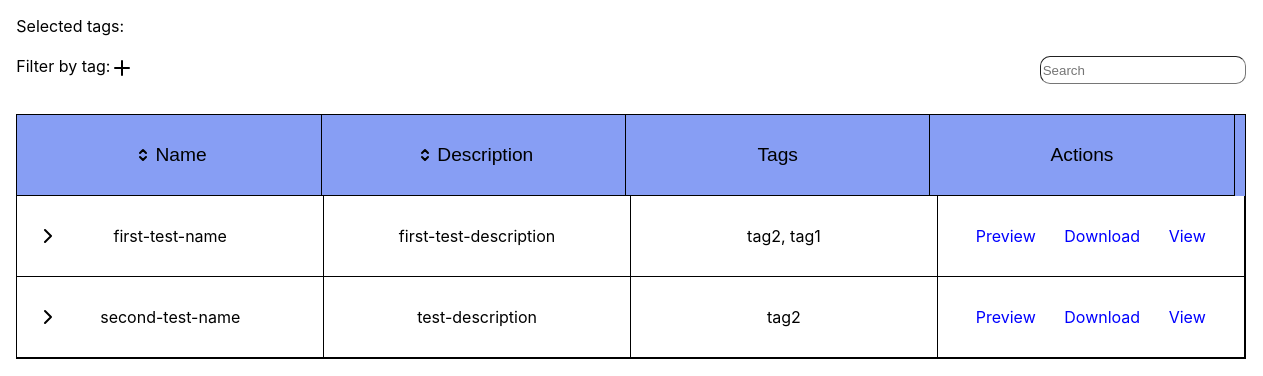
Test: filtering by tags › when models dont have tags that filtered by, all models should be displayed
The image size is (1263, 376).
Click the button with alt text "Add tag" next to "Filter by tag:". click: (122, 68)
box: 110,56 -> 134,80
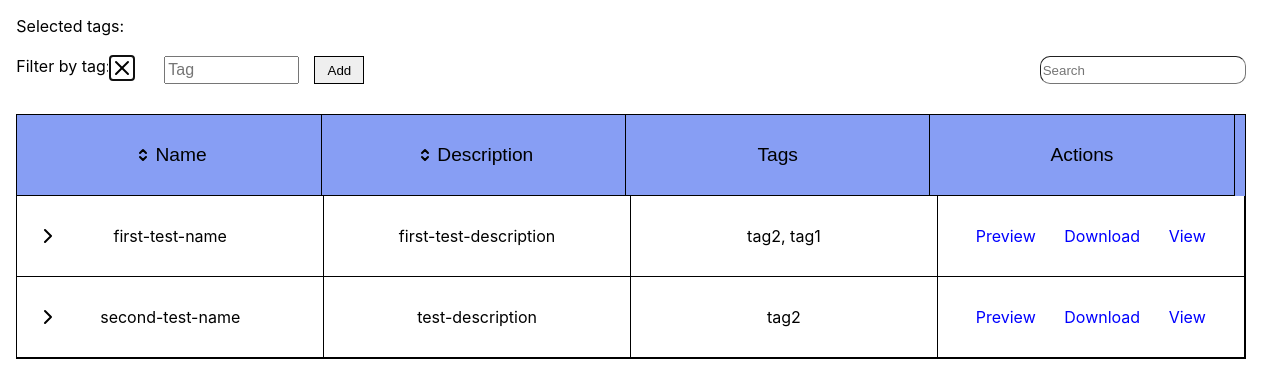
Type "tag1" into the field with placeholder "Tag". click: (232, 70)
box: 164,56 -> 299,84
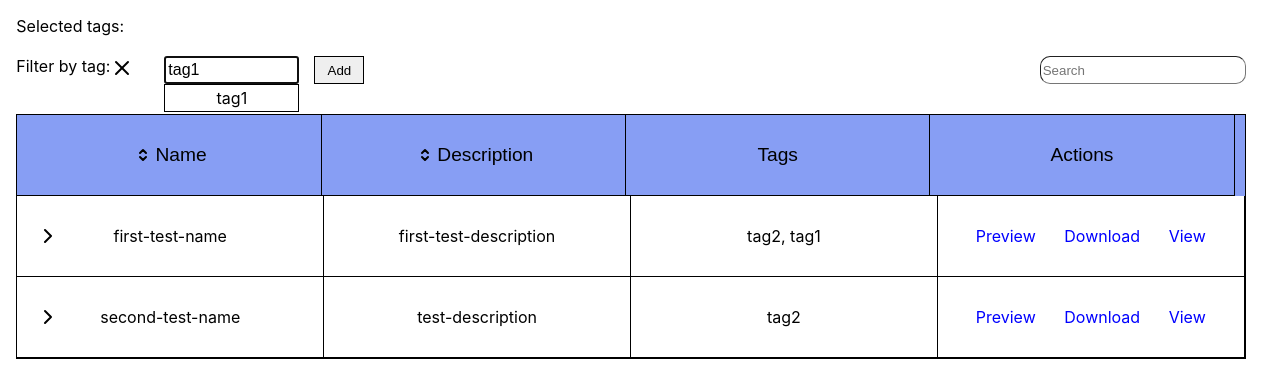
Click the button "Add". click: (339, 70)
box: 314,56 -> 364,84
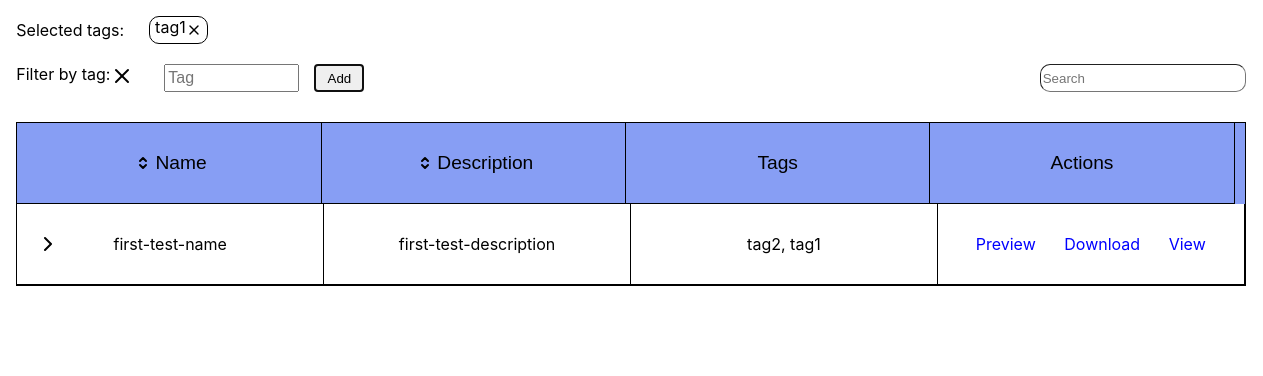
Type "tag3" into the field with placeholder "Tag". click: (232, 78)
box: 164,64 -> 299,92
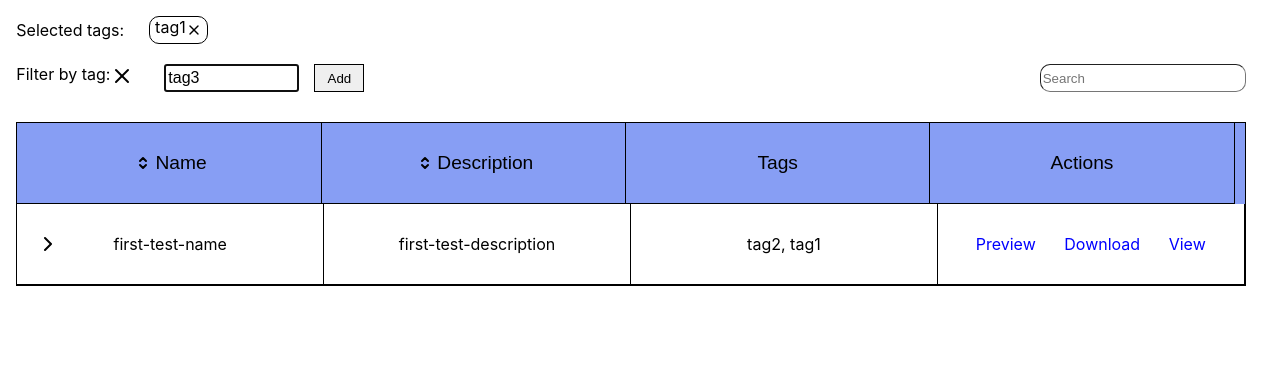
Click the button "Add". click: (339, 78)
box: 314,64 -> 364,92
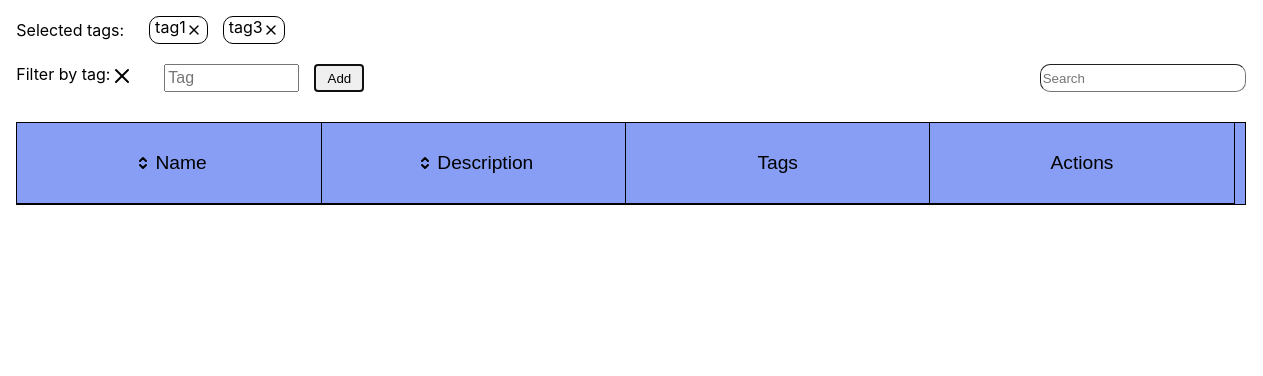
Expected: the text "second-test-name" is not shown
Expected: the text "first-test-name" is gone
